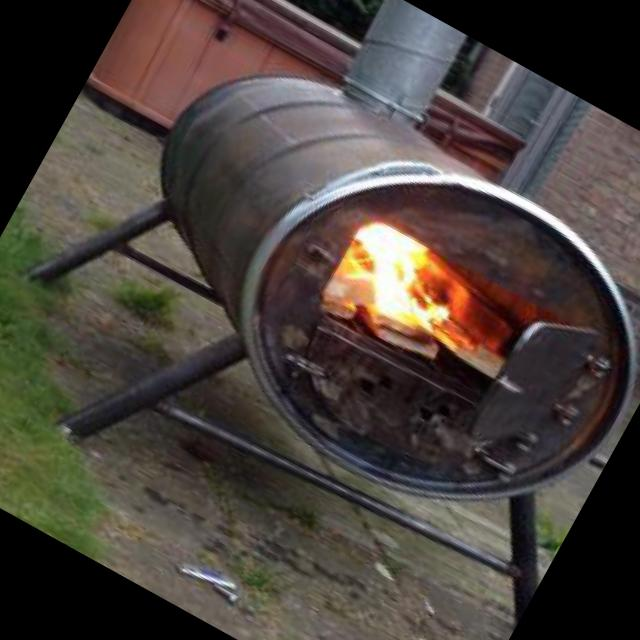fire: (296, 190, 497, 368)
